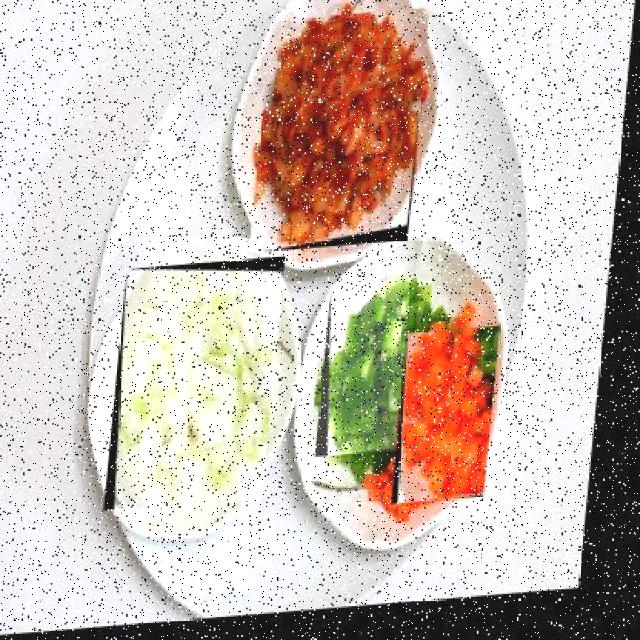Bell Pepper: (325, 285, 420, 464)
Carrot: (402, 335, 508, 513)
Kimchi: (254, 15, 432, 259)
Onion: (114, 262, 292, 516)
